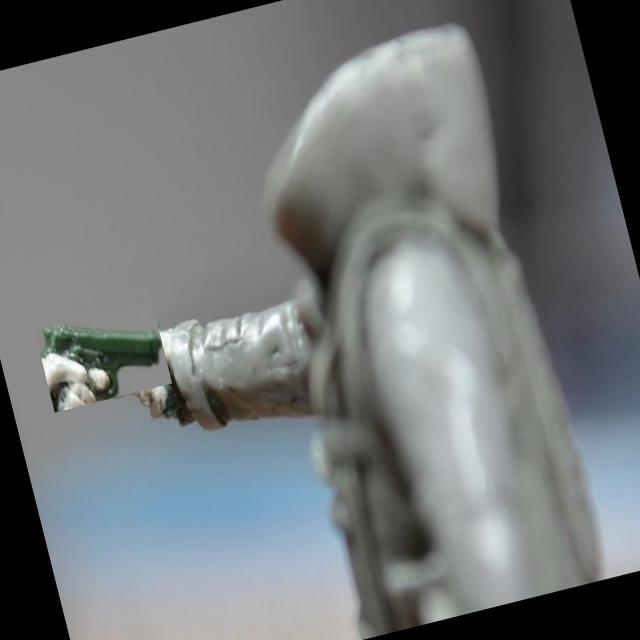Gun: (40, 324, 161, 399)
